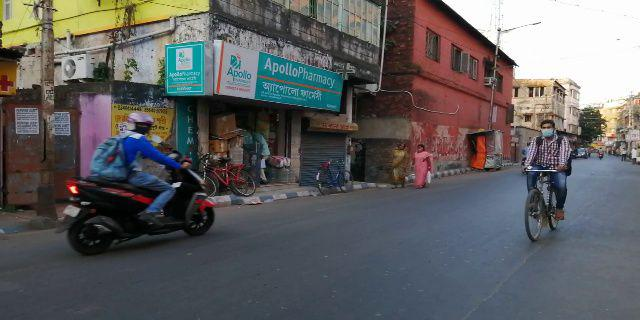Cycle: (518, 114, 571, 247), (194, 151, 263, 195), (316, 154, 357, 196)
Motorbike: (51, 113, 217, 256)
